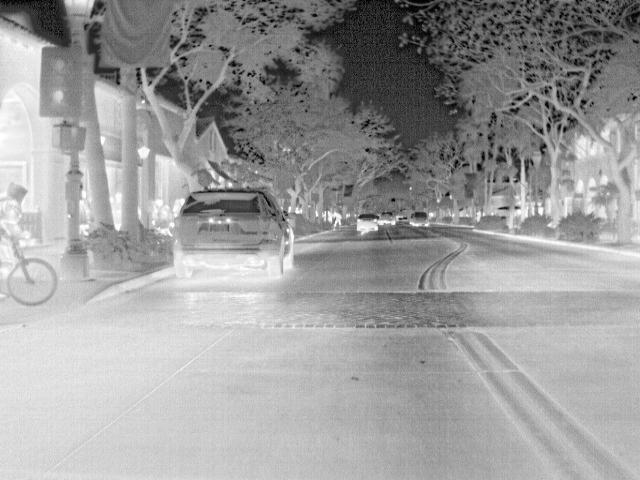car: (172, 186, 294, 278), (354, 212, 381, 233), (409, 211, 435, 230)
person: (2, 181, 36, 248), (76, 193, 91, 235), (155, 196, 171, 228), (332, 208, 346, 229)
